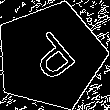P_SE: (19, 25, 82, 87)
